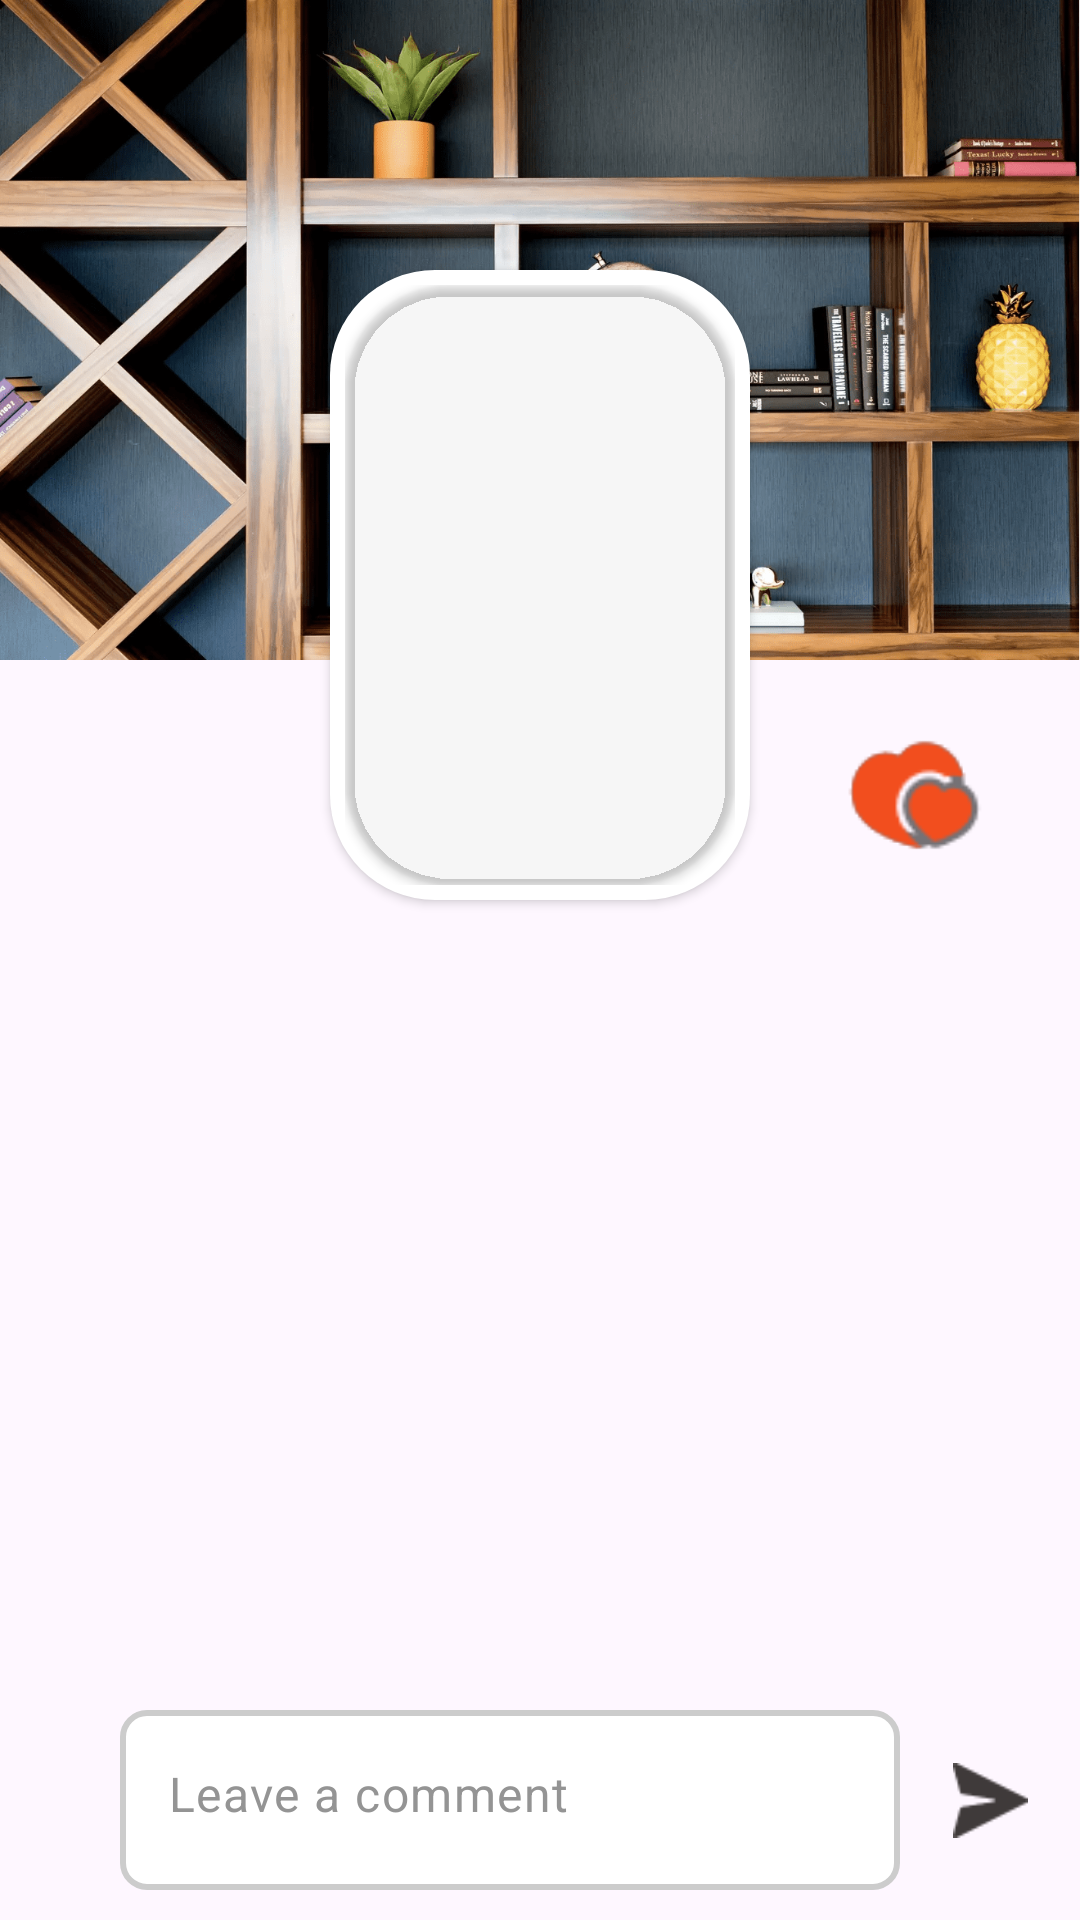

Point at icon controls on the screen. Image size 1080 × 1920, points as (x=x, y=y).
send: (x=990, y=1800)
